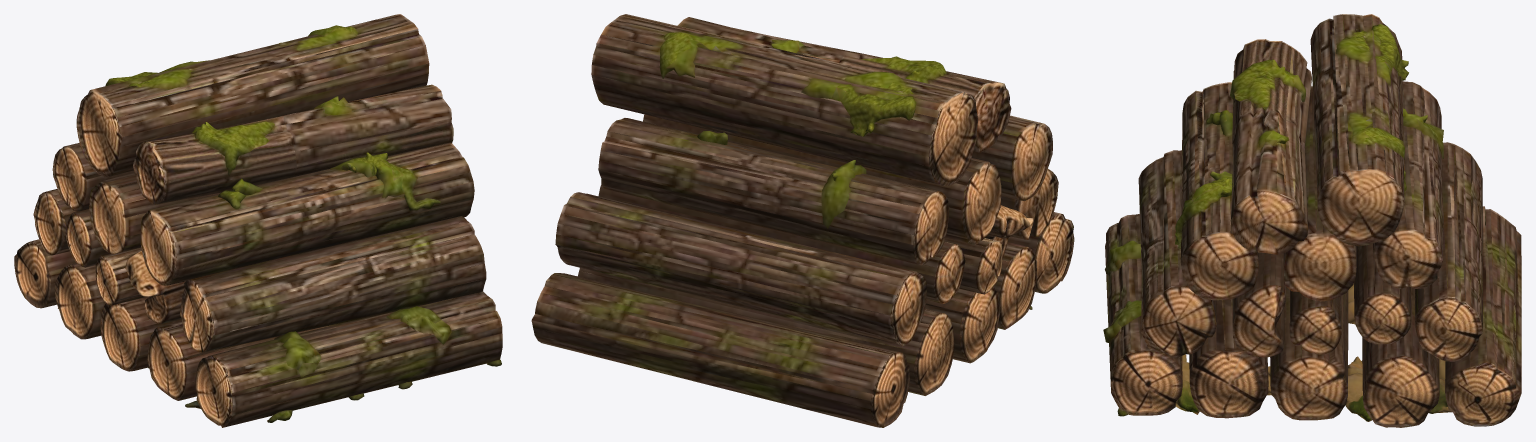
Rendered from firewood.glb.
3 renders of one model, left to right at view 1: azimuth 30°, elevation 25°; view 2: azimuth 150°, elevation 25°; view 3: azimuth 270°, elevation 25°, orthographic. The views are drawn at different scales.
Parts seen in each view (by area): view 1: Mesh_0; view 2: Mesh_0; view 3: Mesh_0.
Part boxes in pixels (x1=…): Mesh_0: x1=14, y1=14, x2=502, y2=427; Mesh_0: x1=531, y1=14, x2=1074, y2=427; Mesh_0: x1=1103, y1=14, x2=1521, y2=427.
Size of the model in its own units: 0.8926 by 0.6738 by 0.96.
1 material, 1 textured.
